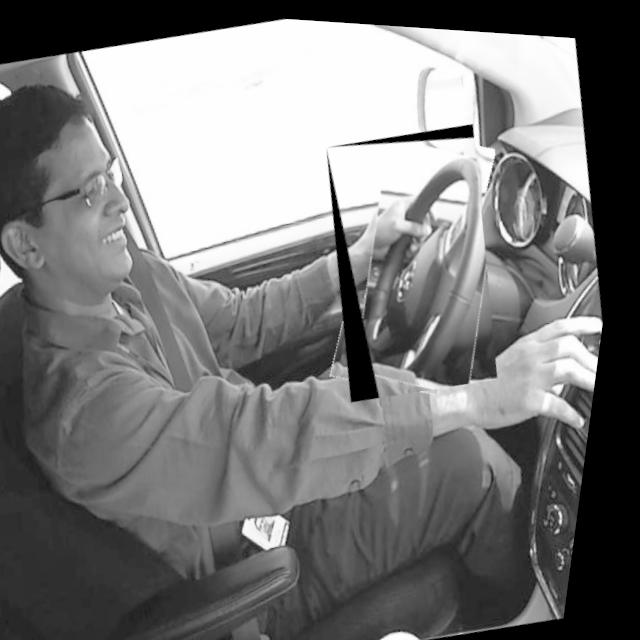wheel: (304, 109, 533, 403)
